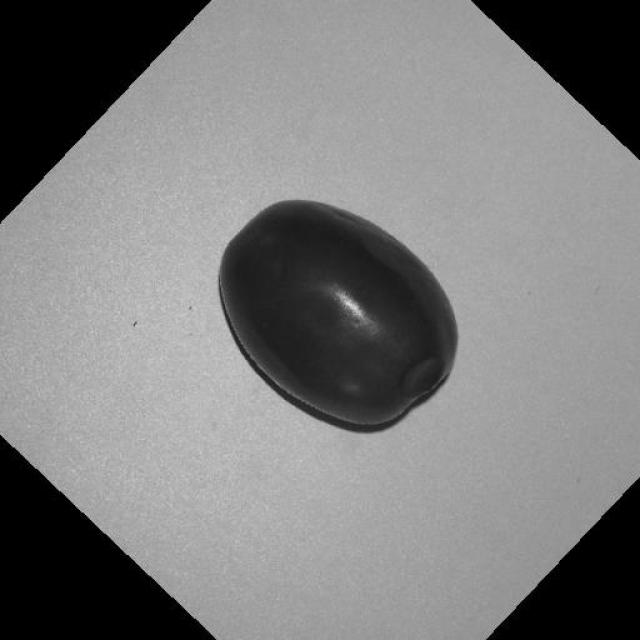Stale_tomato: (353, 336, 469, 417)
